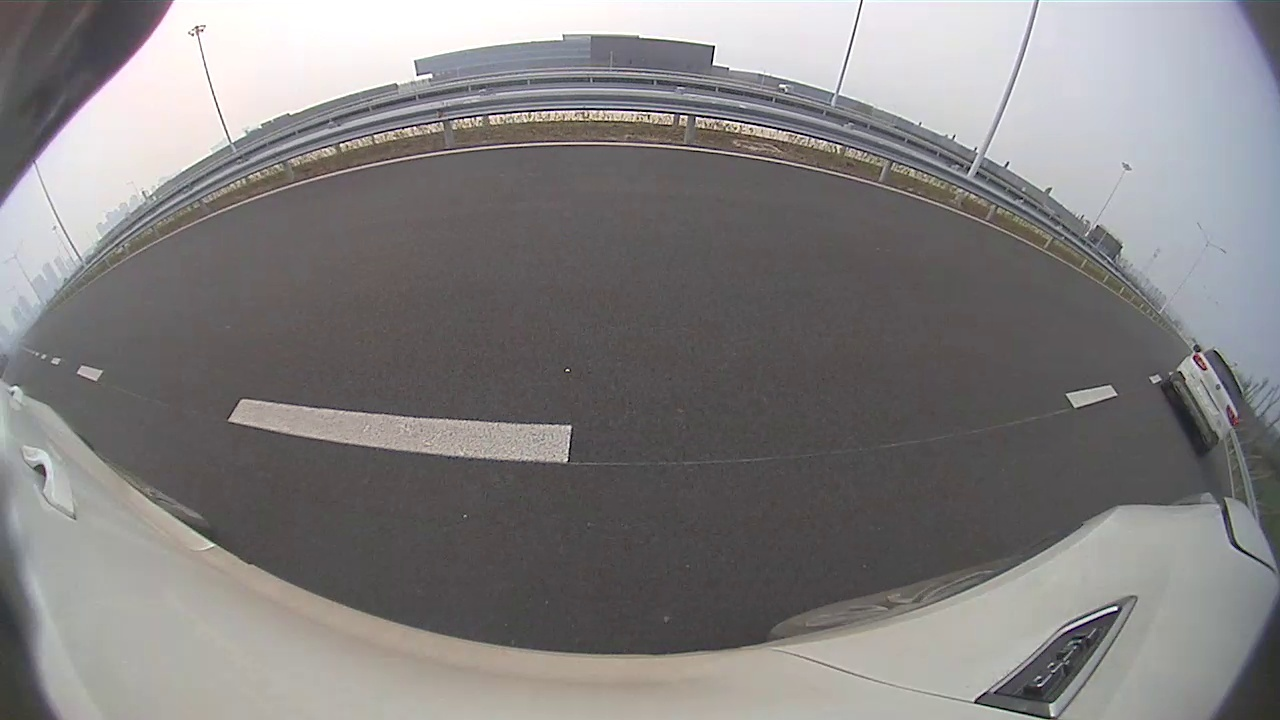car: (1161, 345, 1246, 455)
